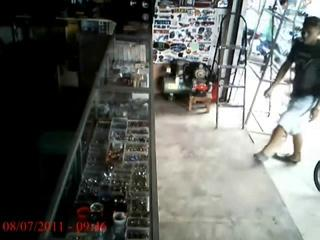Normal: (254, 14, 320, 164)
